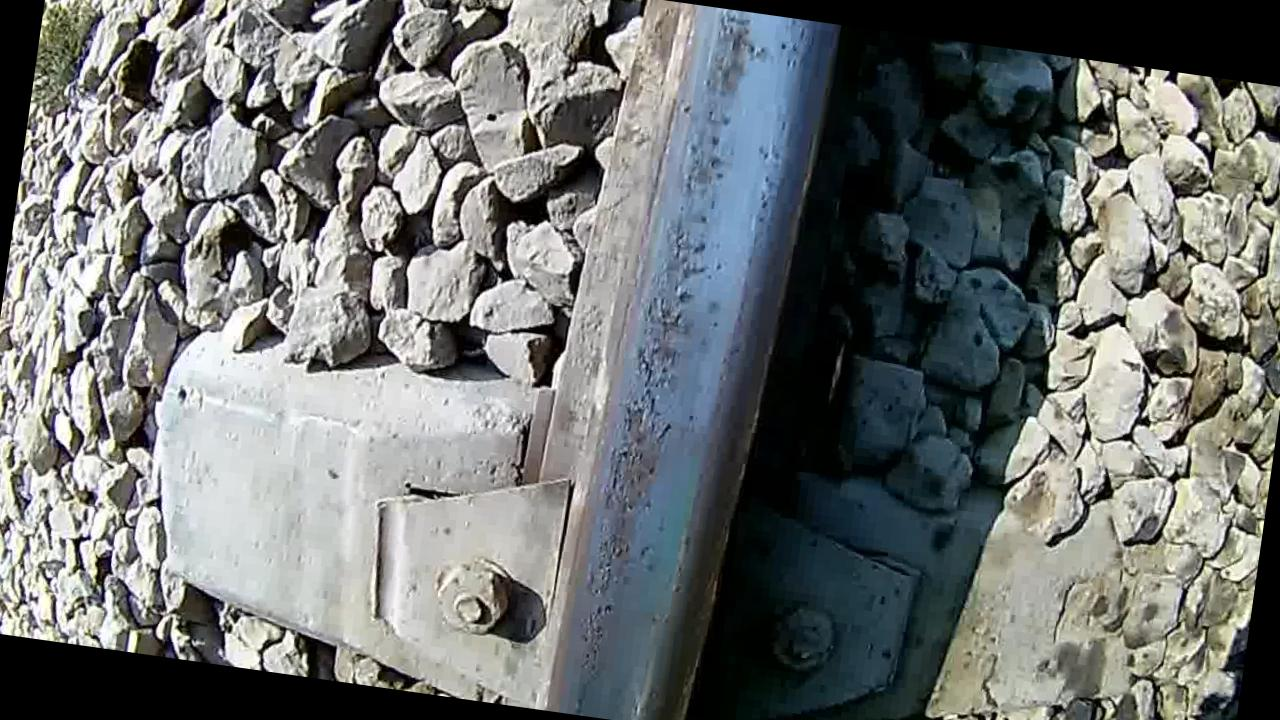crack: (543, 0, 831, 720)
